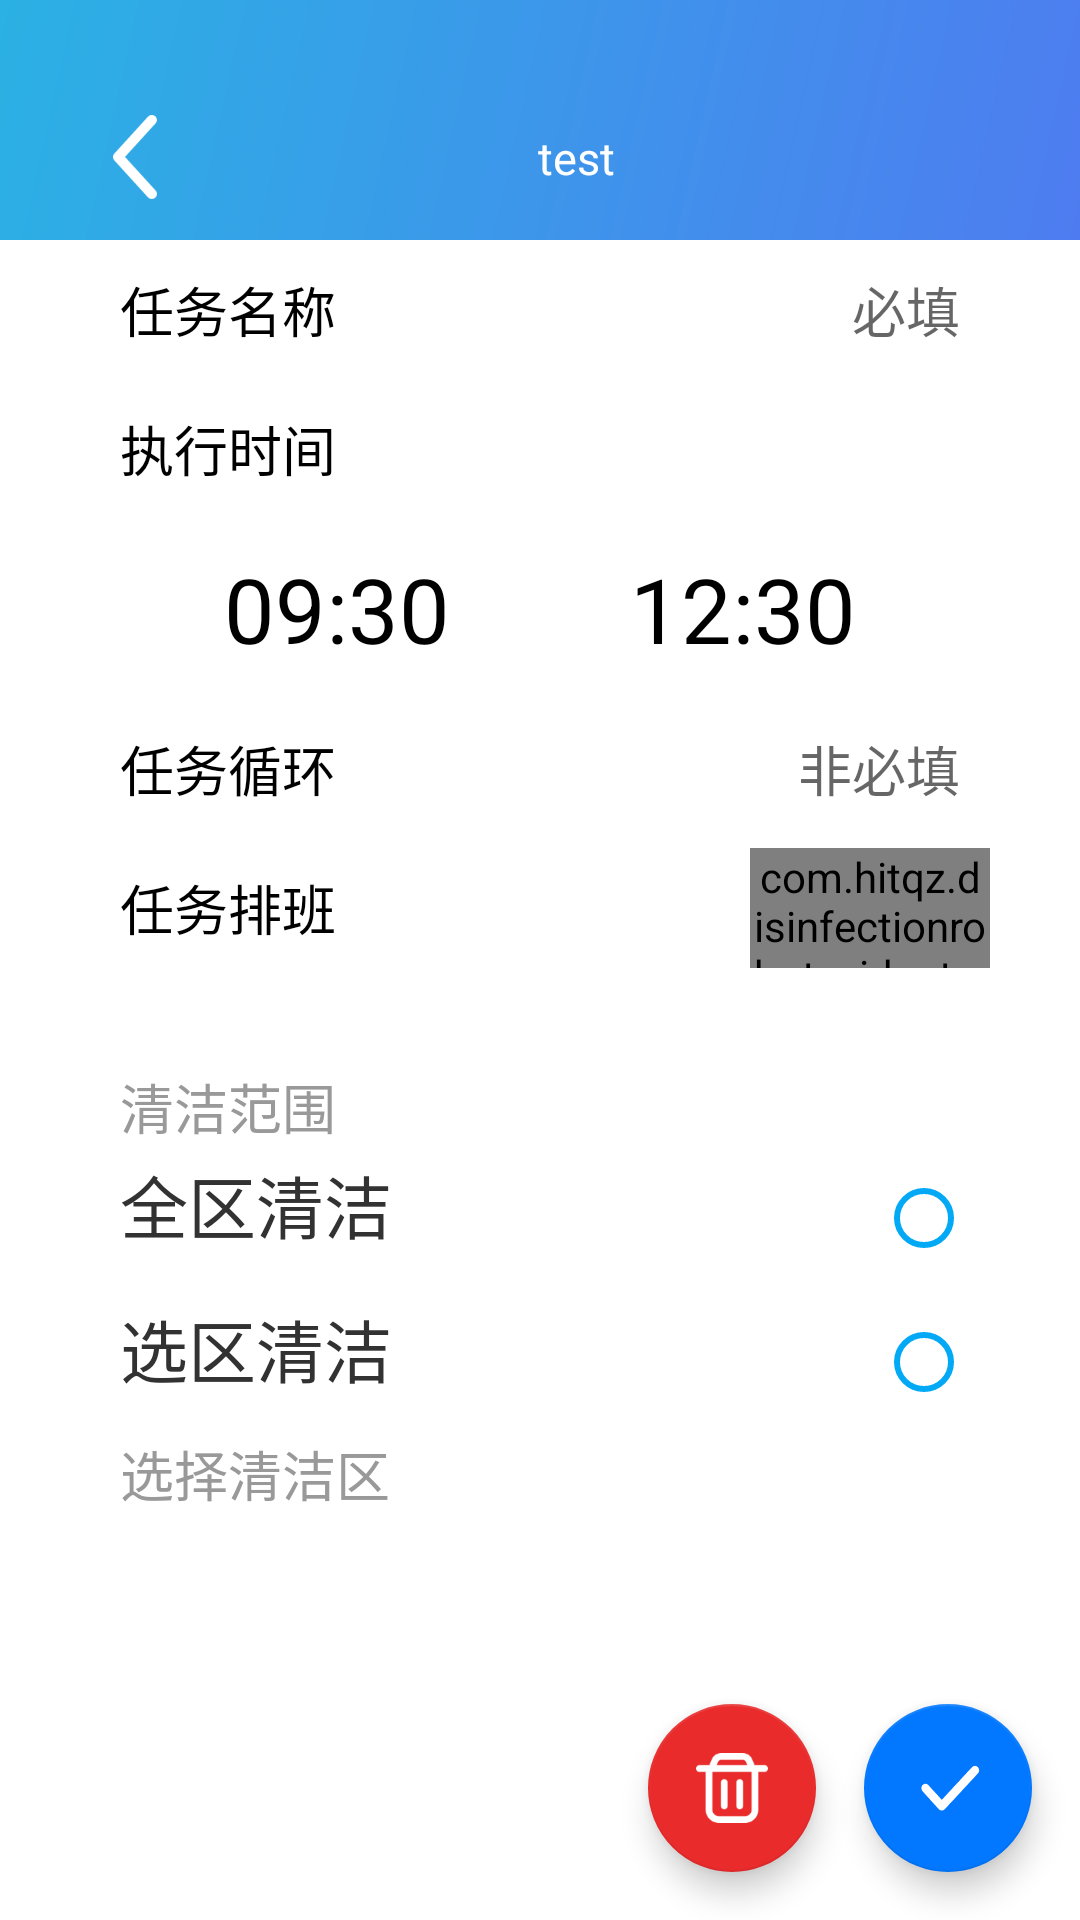

Locate icon controls on the screen. Image size 1080*1920, boxes as (x1, y1, x2, y2).
delete: (648, 1704, 816, 1872)
save: (864, 1704, 1032, 1872)
